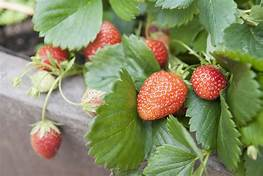Fresa: (132, 66, 191, 124), (187, 56, 234, 105), (26, 117, 67, 163)
